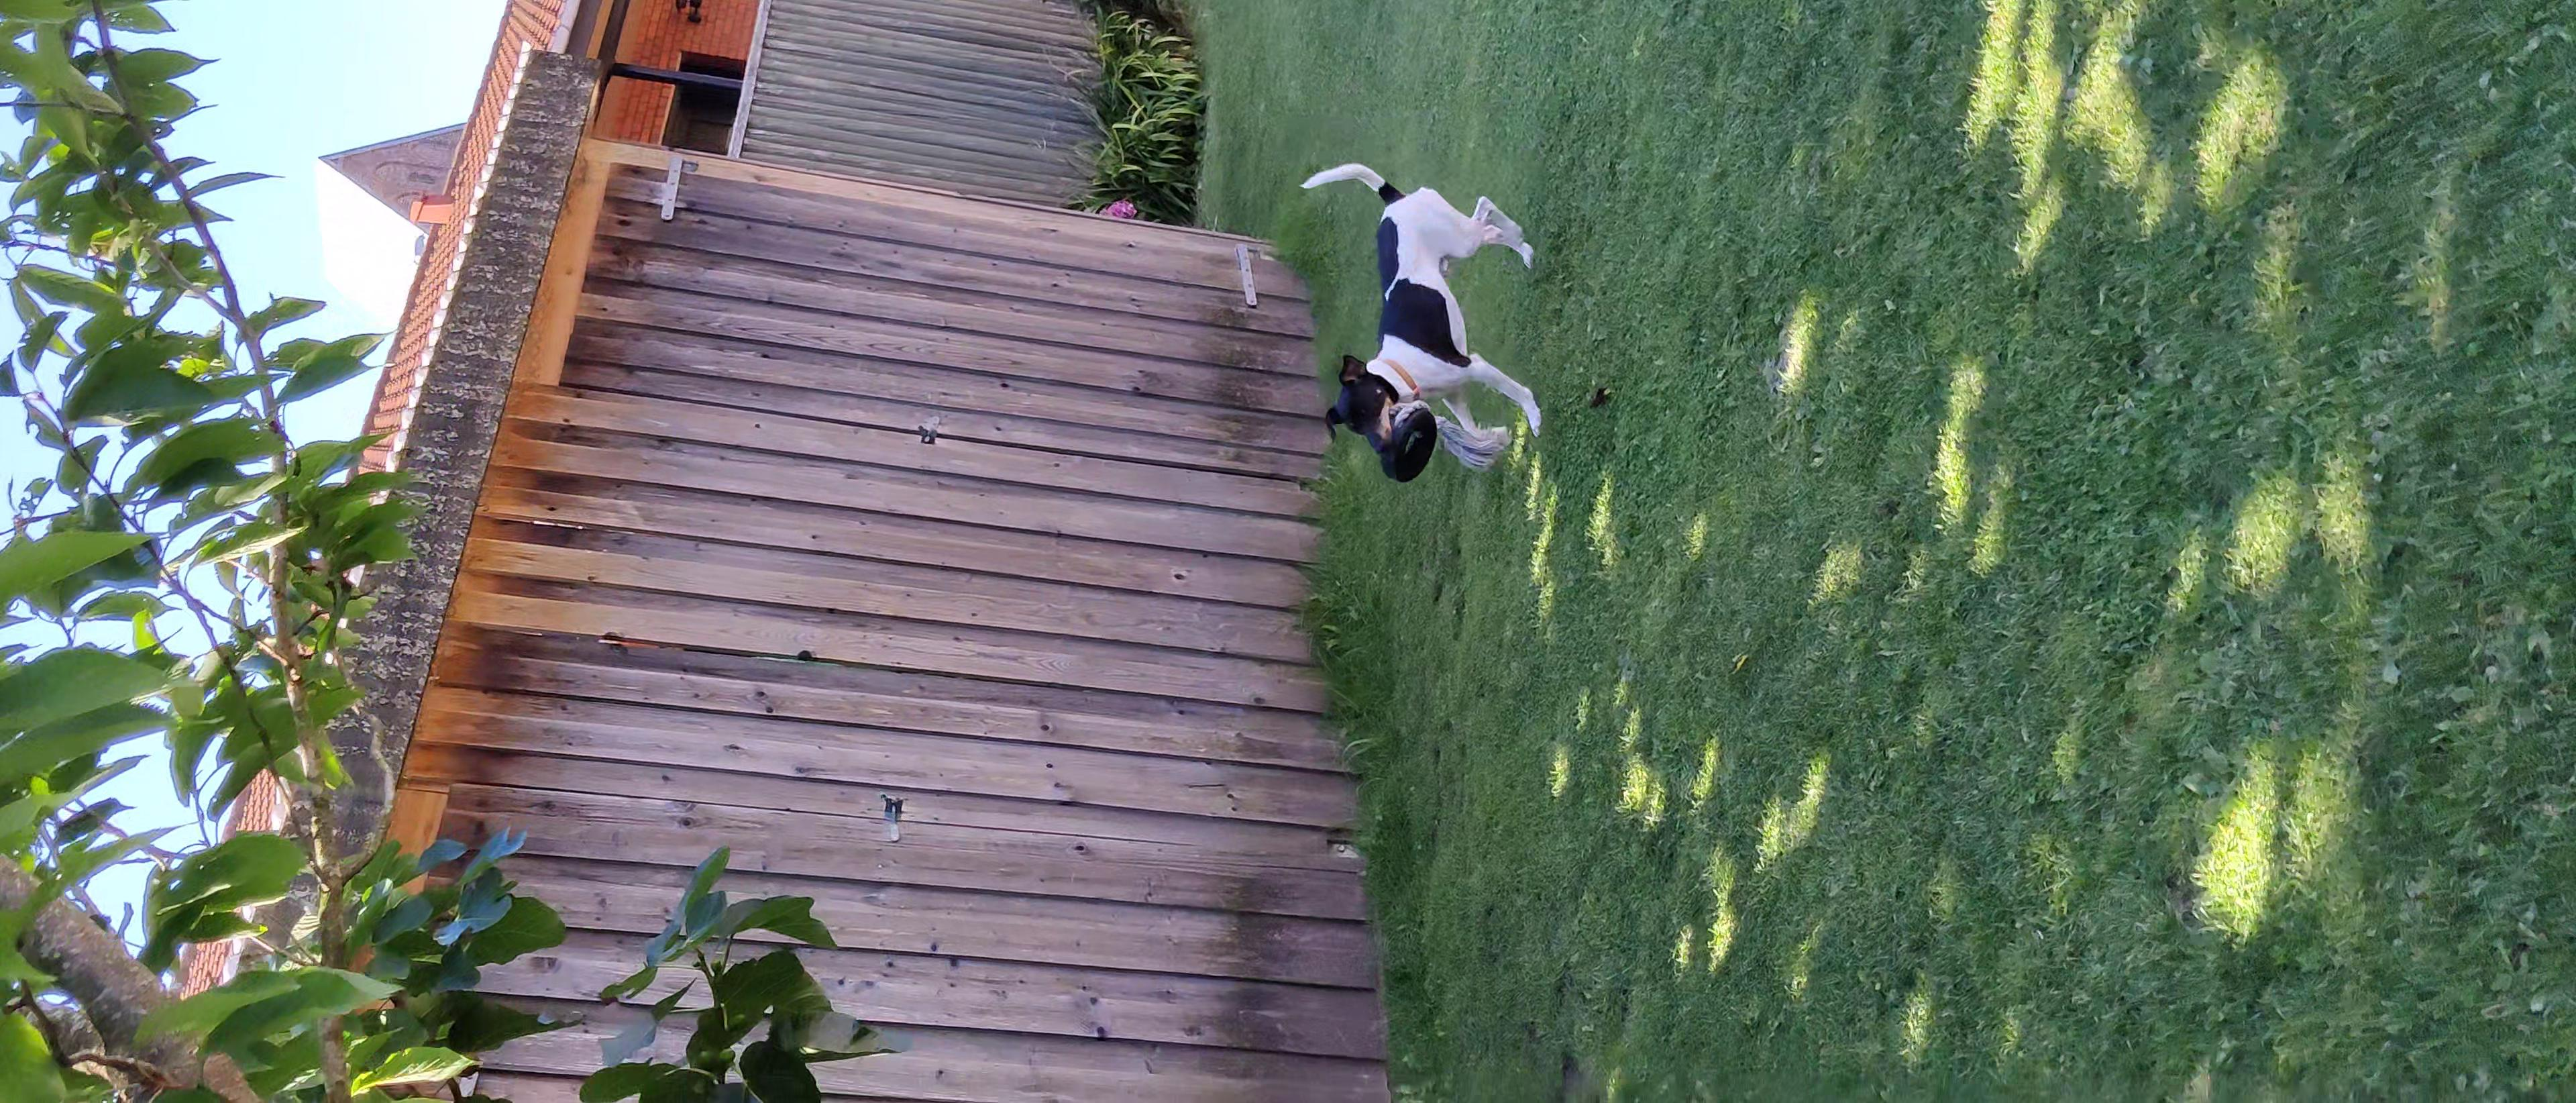Dog: (1295, 158, 1546, 460)
